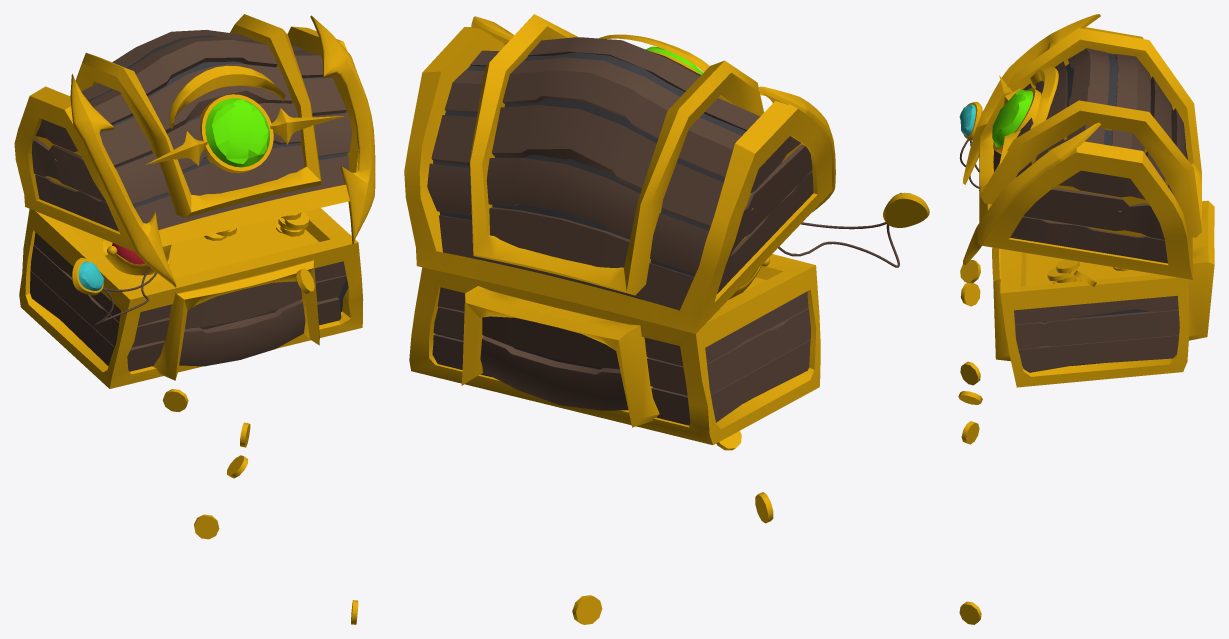
The model's file is chest.glb.
The picture shows the model from 3 angles, left to right: view 1: azimuth 30°, elevation 25°; view 2: azimuth 150°, elevation 25°; view 3: azimuth 270°, elevation 25°; orthographic projection. The views are drawn at different scales.
Visible parts, largest first — view 1: Ocean Chest; view 2: Ocean Chest; view 3: Ocean Chest.
Boxes of the visible parts, x1=… form: Ocean Chest: x1=14, y1=14, x2=375, y2=624; Ocean Chest: x1=404, y1=14, x2=929, y2=624; Ocean Chest: x1=958, y1=14, x2=1214, y2=624.
Size of the model in its own units: 1.26 by 2.03 by 0.9093.
Materials: 1 (1 with a texture image).
